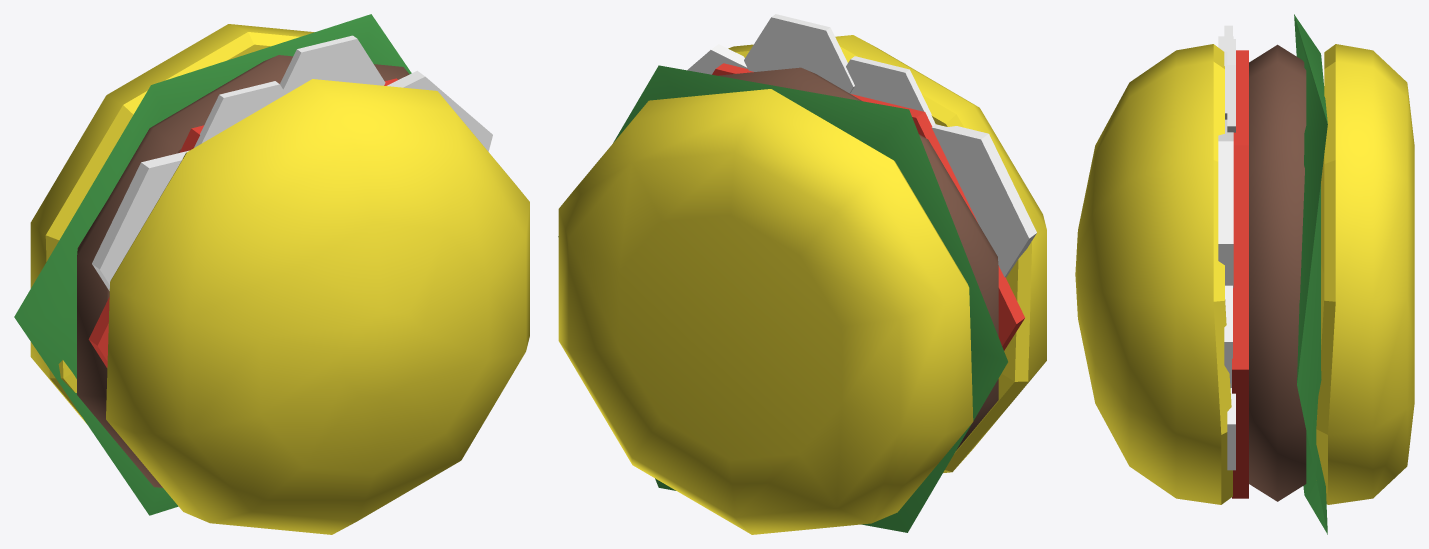
The model's file is 9VFJXXILhdE.glb.
The picture shows the model from 3 angles, left to right: view 1: azimuth 30°, elevation 25°; view 2: azimuth 150°, elevation 25°; view 3: azimuth 270°, elevation 25°; orthographic projection. The views are drawn at different scales.
Visible parts, largest first — view 1: polySurface24; view 2: polySurface24; view 3: polySurface24.
Part boxes in pixels (x1,y1,x2,y2): polySurface24: (14,14,529,534); polySurface24: (558,14,1046,534); polySurface24: (1075,14,1414,534).
Size of the model in its own units: 1.06 by 1 by 0.688.
